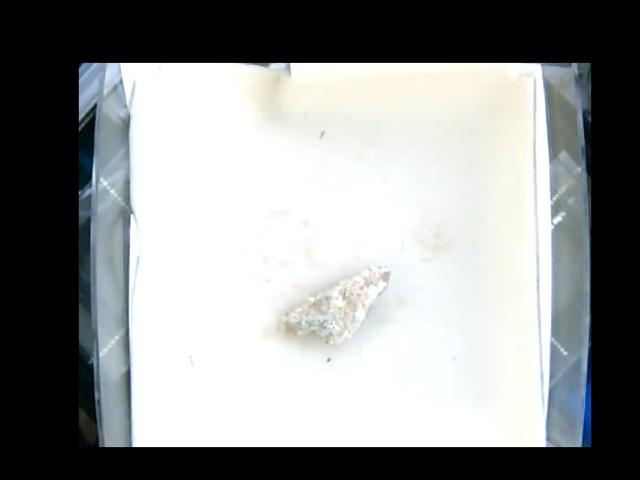Brisk: (290, 263, 390, 342)
